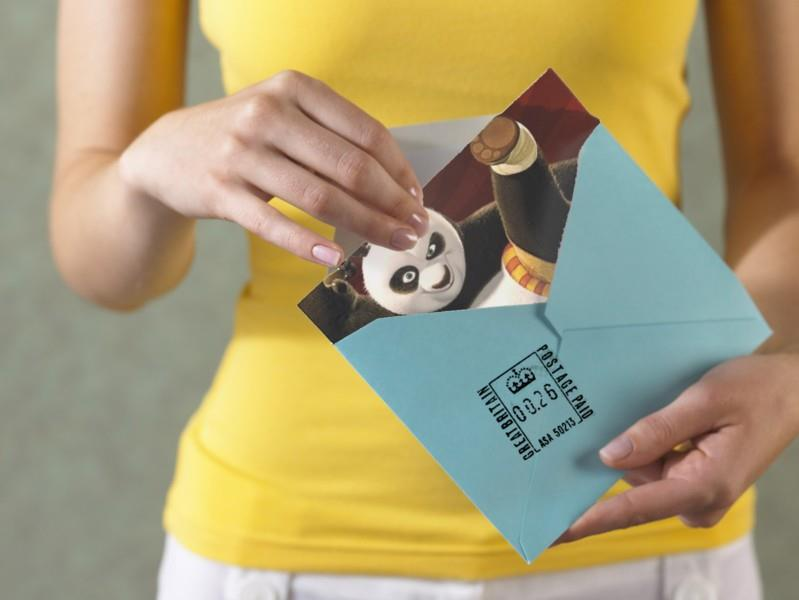Kung_Fu_Panda: (353, 110, 595, 331)
